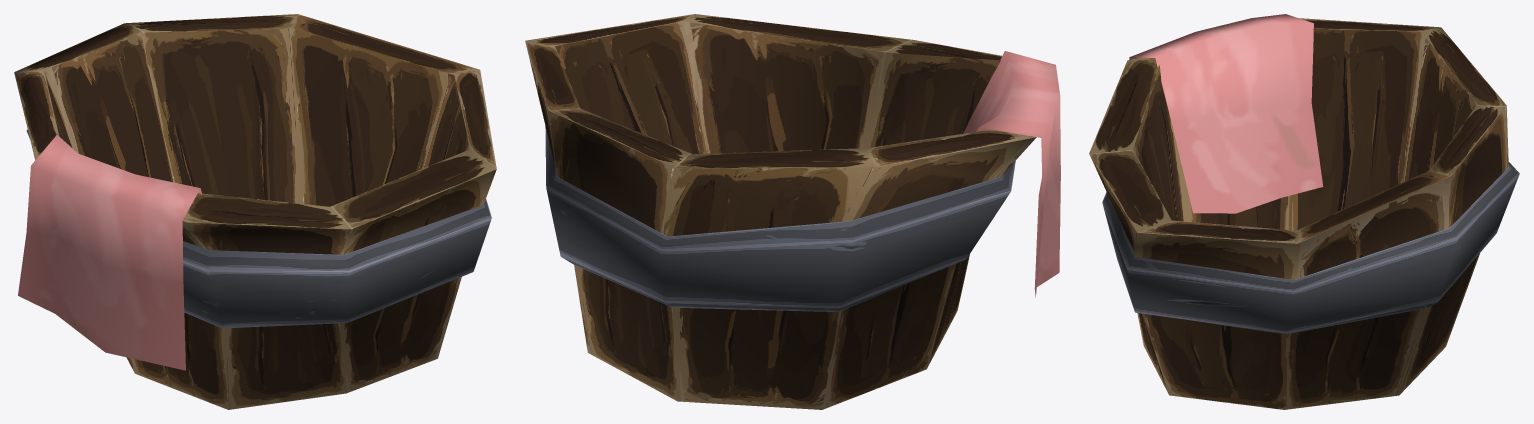
The model's file is SM_PROP_bucket_03.fbx.
3 views of the same model, side by side, from view 1: azimuth 30°, elevation 25°; view 2: azimuth 150°, elevation 25°; view 3: azimuth 270°, elevation 25° (orthographic). The views are drawn at different scales.
Visible parts, largest first — view 1: SM_PROP_bucket_03; view 2: SM_PROP_bucket_03; view 3: SM_PROP_bucket_03.
Boxes of the visible parts, left/top/right/bottom form: SM_PROP_bucket_03: left=14, top=14, right=496, bottom=409; SM_PROP_bucket_03: left=525, top=14, right=1060, bottom=409; SM_PROP_bucket_03: left=1089, top=14, right=1519, bottom=409.
Bounding box in the file's own units: 70.5 × 37.41 × 60.22.
